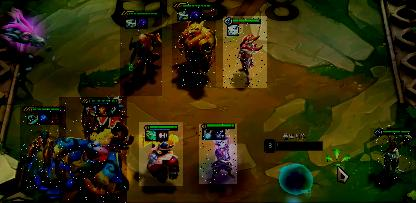1_bard: (139, 122, 183, 186)
1_yasuo: (199, 124, 237, 184)
2_karma: (370, 128, 412, 184)
2_sett: (223, 16, 267, 88)
3_kaisa: (20, 106, 66, 188)
3_leesin: (120, 10, 162, 96)
3_nunu: (59, 97, 127, 203)
3_volibear: (172, 2, 216, 88)
